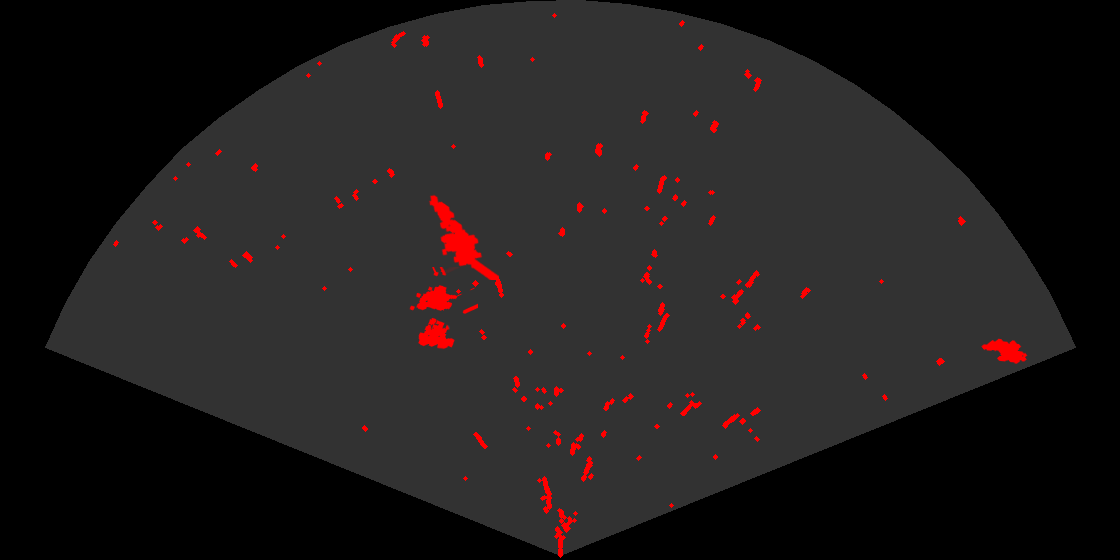AUV: (980, 337, 1029, 365)
cage: (408, 267, 478, 351)
frogman: (427, 193, 499, 280)
